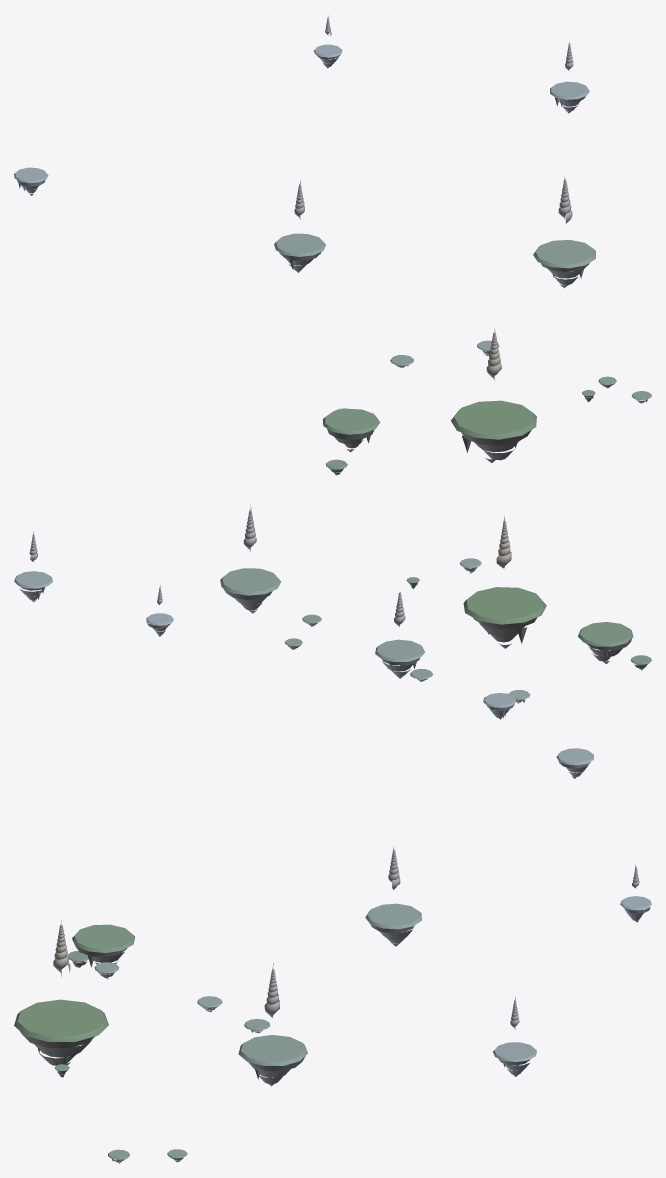
The model's file is town_sky.glb.
3 views of the same model, one above another, from view 1: azimuth 30°, elevation 25°; view 2: azimuth 150°, elevation 25°; view 3: azimuth 270°, elevation 25° (orthographic). The views are drawn at different scales.
Parts seen in each view (by area): view 1: town_sky_sky; view 2: town_sky_sky; view 3: town_sky_sky.
Boxes of the visible parts, bbox=[...] form: town_sky_sky: bbox=[14, 15, 651, 475]; town_sky_sky: bbox=[14, 504, 651, 719]; town_sky_sky: bbox=[14, 748, 651, 1163].
Size of the model in its own units: 228 by 95.48 by 211.
